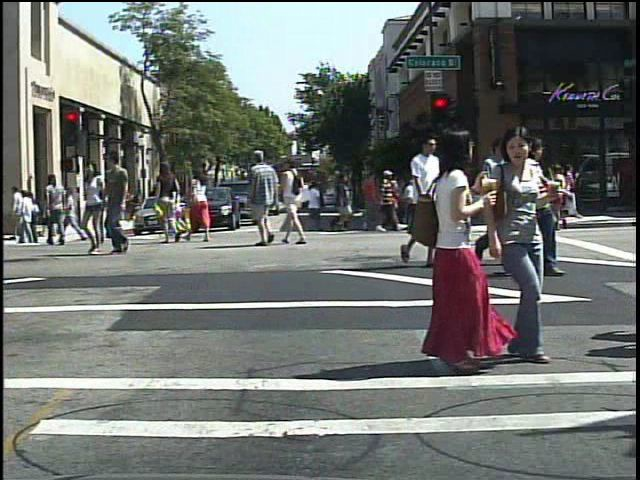person: (414, 123, 504, 378), (482, 127, 563, 365), (407, 131, 465, 272), (523, 131, 574, 278), (465, 132, 517, 265), (489, 137, 537, 248), (103, 147, 145, 257), (243, 147, 284, 249), (76, 160, 112, 257), (281, 152, 310, 247), (154, 161, 184, 245), (186, 164, 214, 241), (86, 168, 112, 245), (42, 173, 69, 246), (488, 163, 515, 233), (375, 165, 399, 234)
